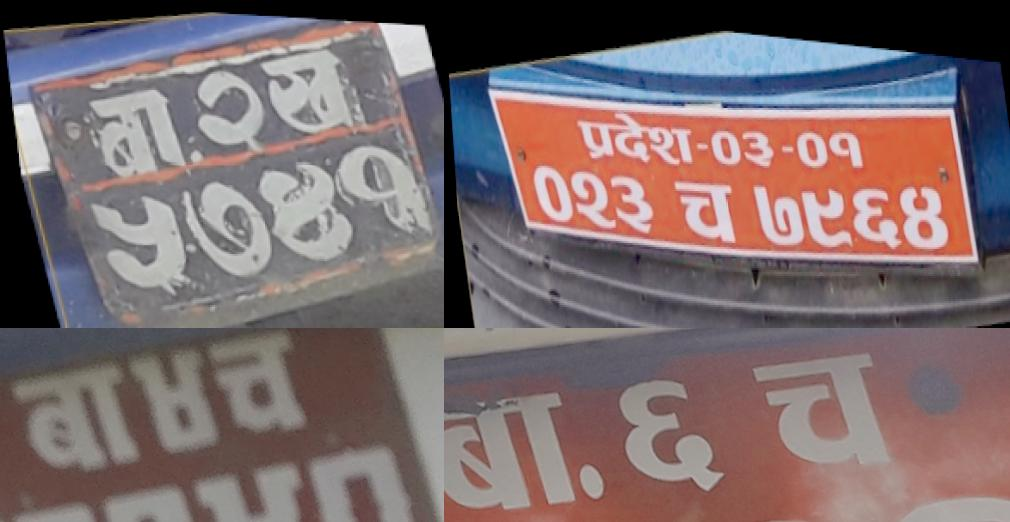0: (289, 425, 431, 522), (526, 152, 575, 232), (794, 115, 828, 164), (707, 118, 741, 164)
1: (324, 133, 433, 254), (83, 467, 216, 522), (828, 115, 862, 164)
2: (178, 58, 274, 166), (566, 152, 615, 237)
3: (604, 156, 656, 238), (740, 115, 774, 164)
4: (115, 338, 226, 460), (249, 151, 355, 269), (177, 444, 323, 522), (896, 157, 954, 252)
5: (79, 184, 193, 308)
6: (592, 356, 740, 506), (844, 161, 904, 251)
7: (166, 171, 278, 294), (748, 160, 806, 250)
9: (795, 161, 853, 248)
ba: (444, 369, 613, 522), (0, 344, 144, 478), (75, 78, 192, 187)
cha: (737, 328, 928, 495), (195, 328, 314, 438), (669, 156, 744, 259)
kha: (254, 34, 368, 143)
